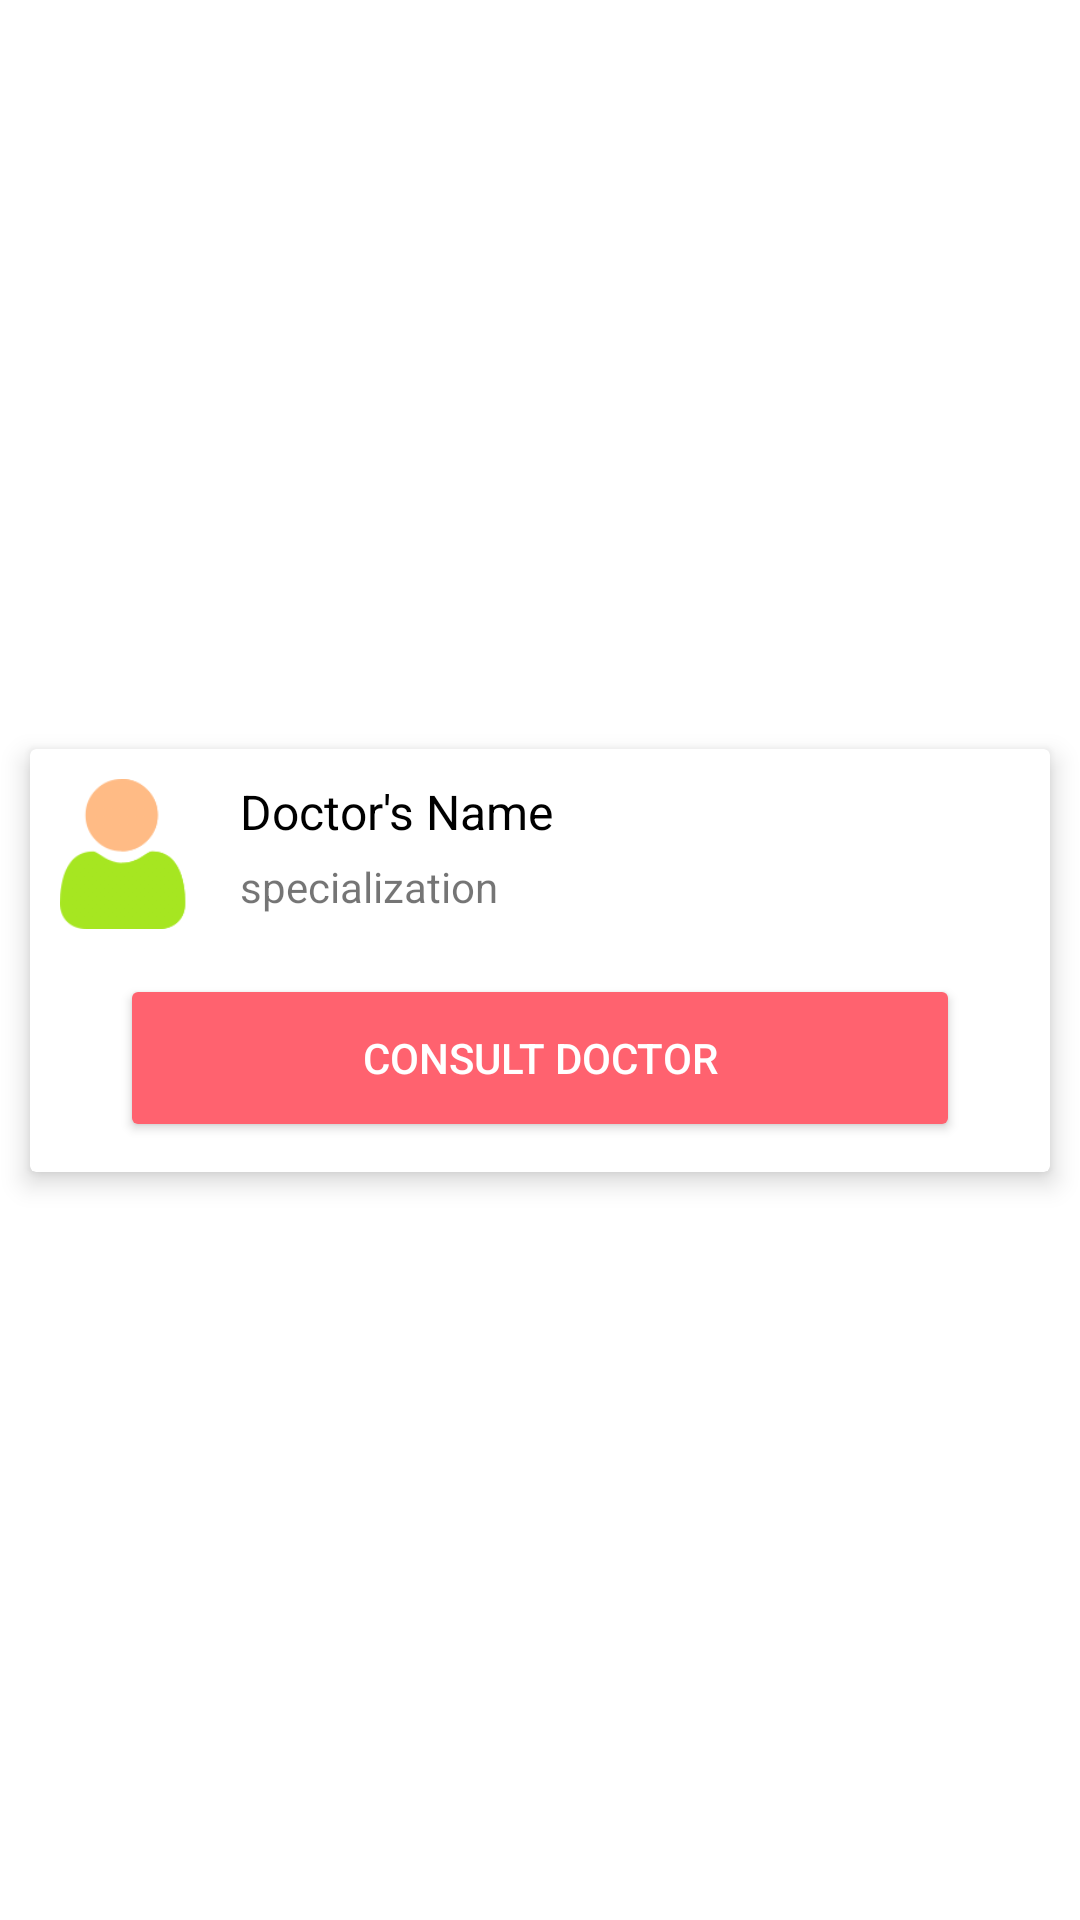

Icons on this 1080x1920 Android screen, each with the point to tap as (x,y):
user: (123,854)
